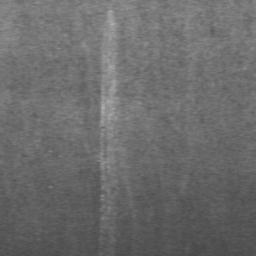Bright scratch: (99, 11, 118, 256)
